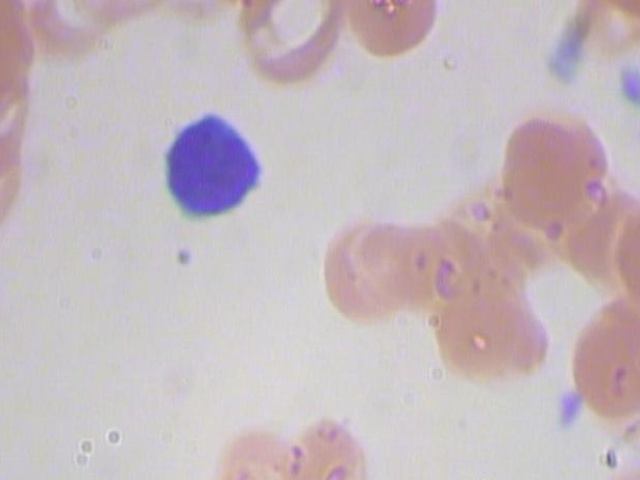Platelets: (546, 383, 582, 433), (615, 60, 640, 110), (632, 118, 640, 168)
RBC: (496, 105, 609, 249), (428, 268, 553, 393), (321, 208, 412, 322), (234, 0, 341, 93), (567, 293, 640, 424), (332, 0, 448, 57), (280, 413, 372, 480), (208, 413, 300, 480), (26, 0, 121, 62), (68, 0, 184, 39)
WBC: (148, 94, 277, 241)
